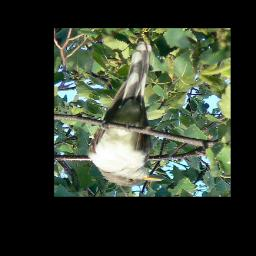Cuckoo: (89, 40, 164, 188)
